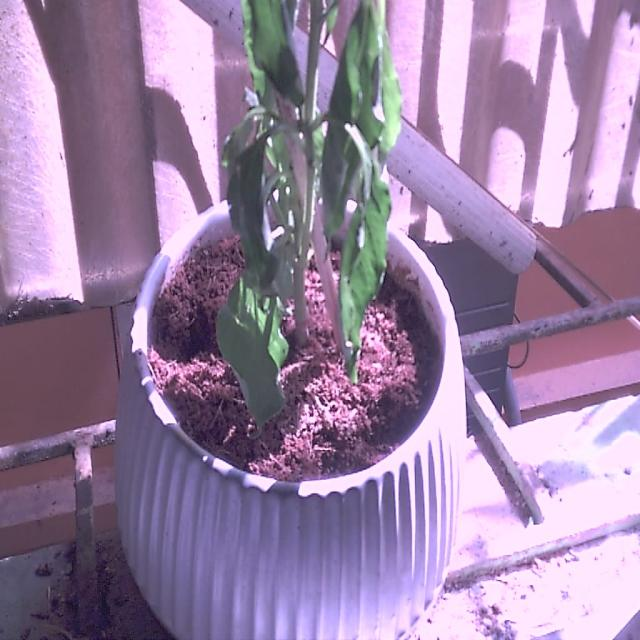Leaf: (213, 259, 292, 428), (219, 131, 288, 294), (344, 174, 389, 376), (246, 4, 310, 114)
